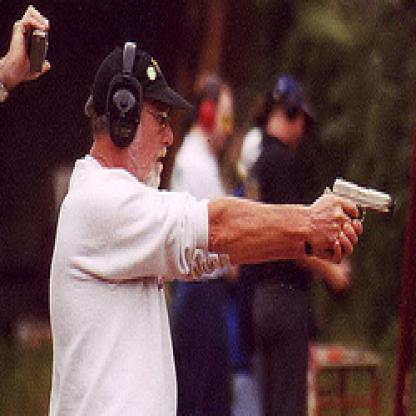gun: (323, 170, 403, 246)
